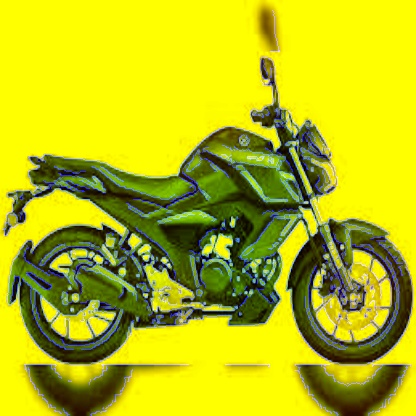bike: (14, 81, 403, 362)
